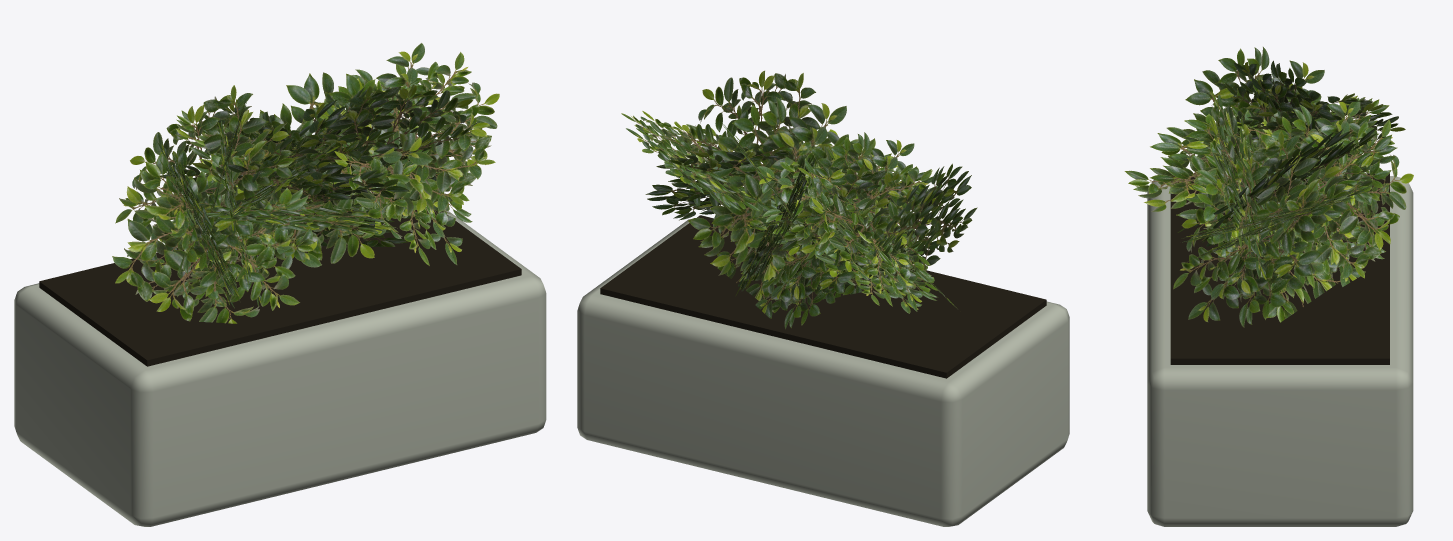
The model's file is planter.glb.
3 renders of one model, left to right at view 1: azimuth 30°, elevation 25°; view 2: azimuth 150°, elevation 25°; view 3: azimuth 270°, elevation 25°, orthographic. The views are drawn at different scales.
Parts seen in each view (by area): view 1: planter_Body; view 2: planter_Body; view 3: planter_Body.
Boxes of the visible parts, left/top/right/bottom form: planter_Body: left=14, top=43, right=546, bottom=526; planter_Body: left=577, top=70, right=1069, bottom=526; planter_Body: left=1124, top=47, right=1413, bottom=526.
Size of the model in its own units: 1.64 by 1.44 by 1.09.
Materials: 3 (1 with a texture image).
